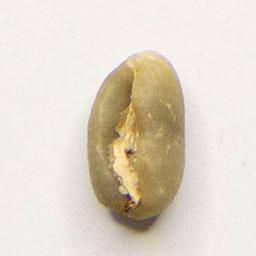longberry: (84, 47, 189, 224)
